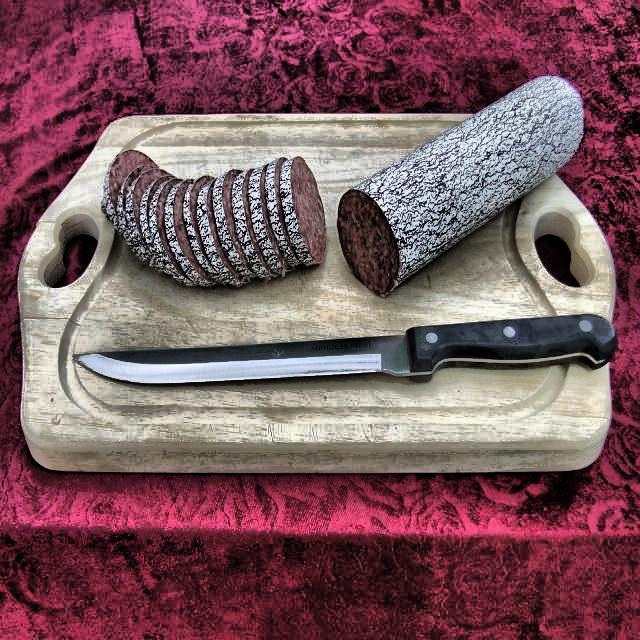knife: (73, 308, 621, 390)
